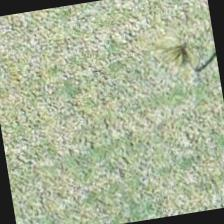Kelapa_Sawit: (139, 20, 223, 122)
